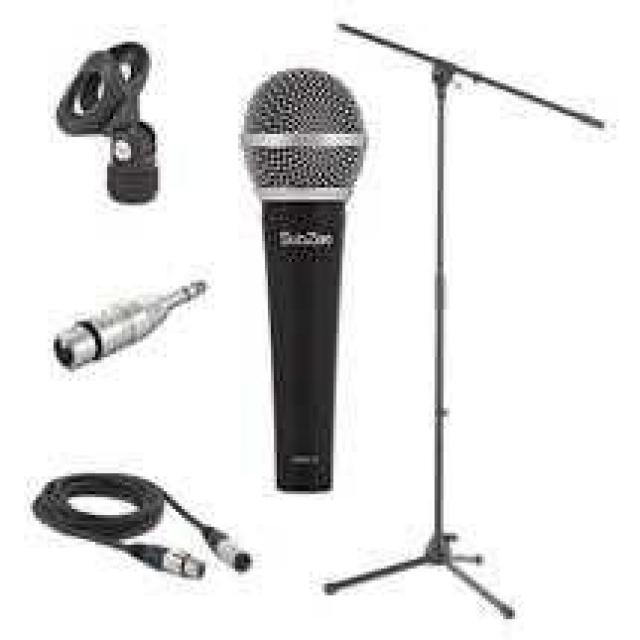microphone: (240, 69, 373, 489)
